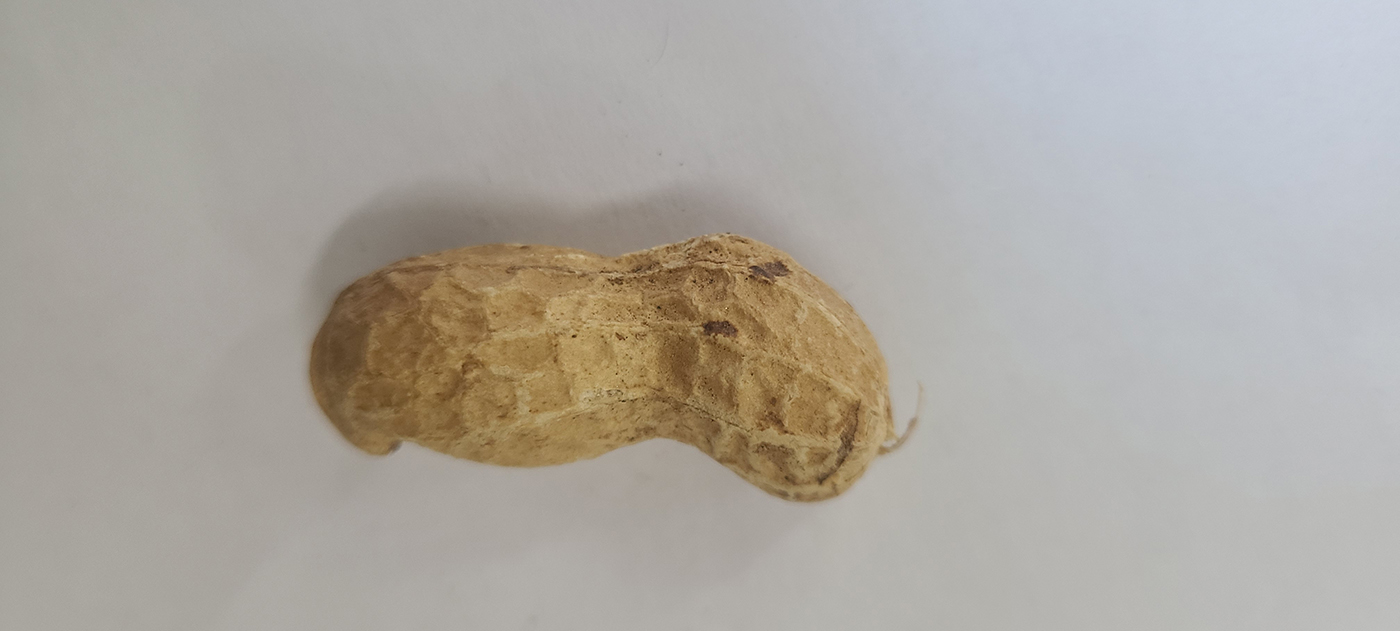h: (309, 227, 903, 502)
